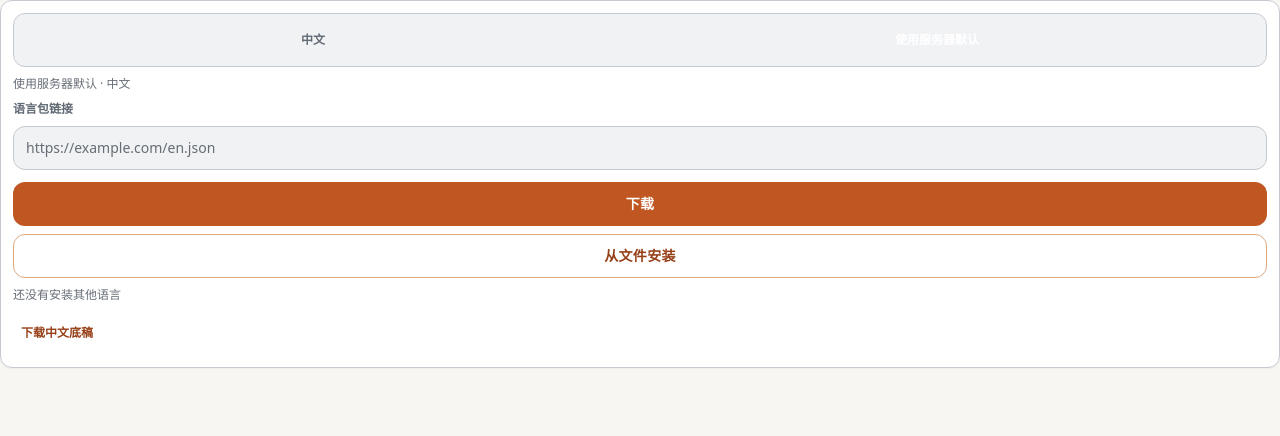
it: 语言设置 › 链接错误与文件安装错误各显示在自己的位置
This screenshot has width=1280, height=436.
Type "notaurl" into the field with id "settings-lang-url" at (640, 148), box [13,126,1267,170]
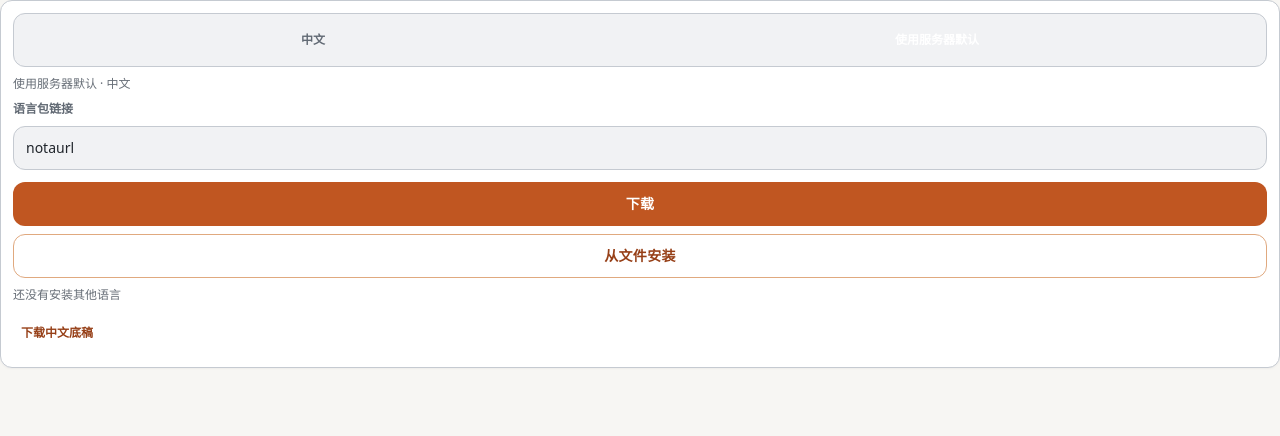
Submit the form, box [13,100,1267,226]
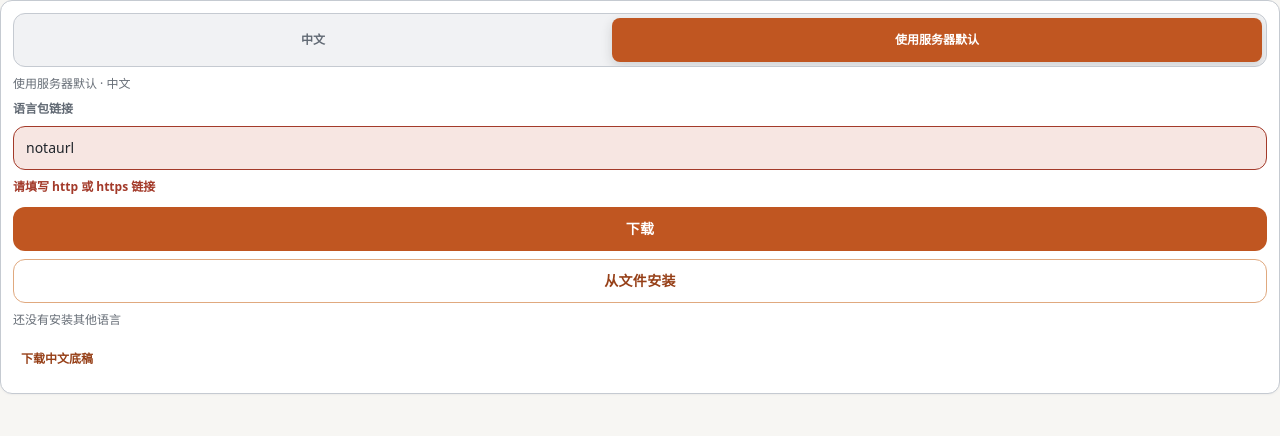
Now the message "请填写 http 或 https 链接" is shown, box [13,178,155,195]
Click the button "从文件安装" at (640, 281), box [13,259,1267,303]
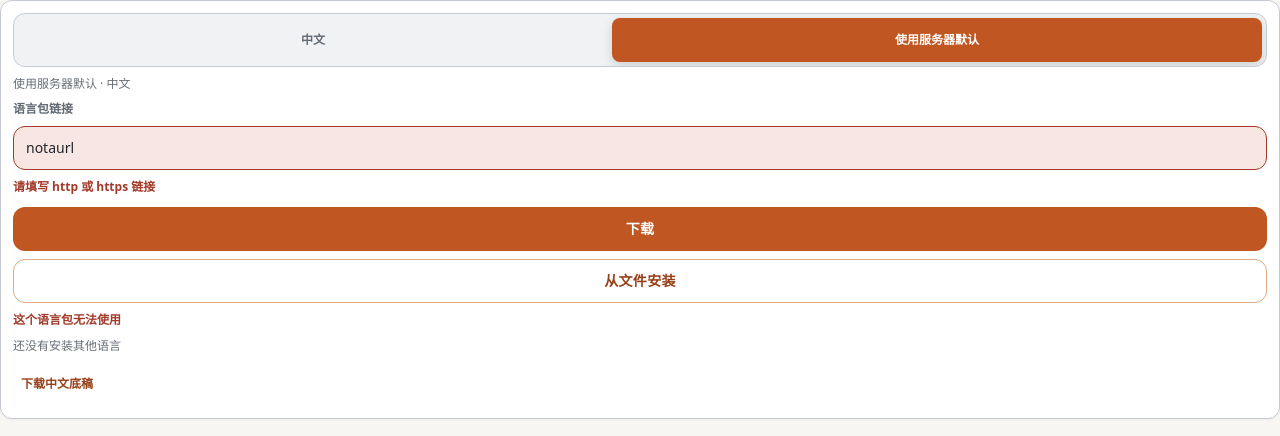
Now the message "请填写 http 或 https 链接" is shown, box [13,178,155,195]
Now the number of messages is 2, box [13,178,155,195]; [13,311,121,328]
